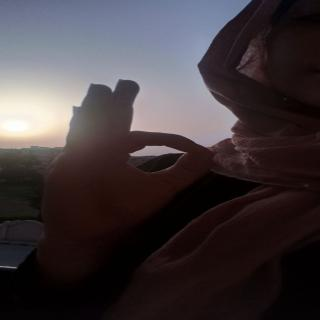Space: (46, 78, 215, 214)
